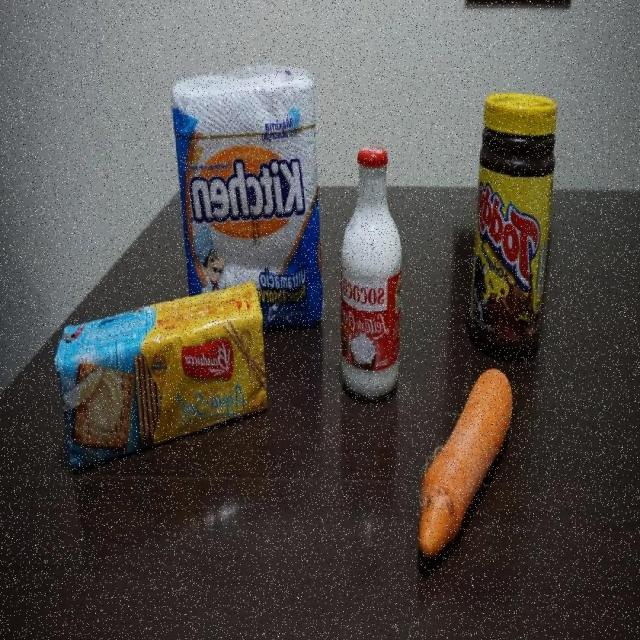Carrot: (417, 367, 515, 561)
ChocolatePowder: (464, 90, 558, 361)
CoconutMilk: (340, 142, 402, 406)
Cracker: (53, 279, 270, 471)
Napkin: (172, 61, 328, 336)
